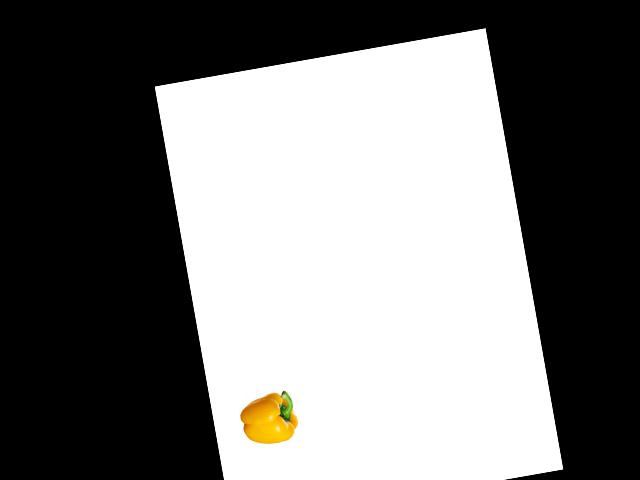bell_pepper: (234, 383, 306, 453)
